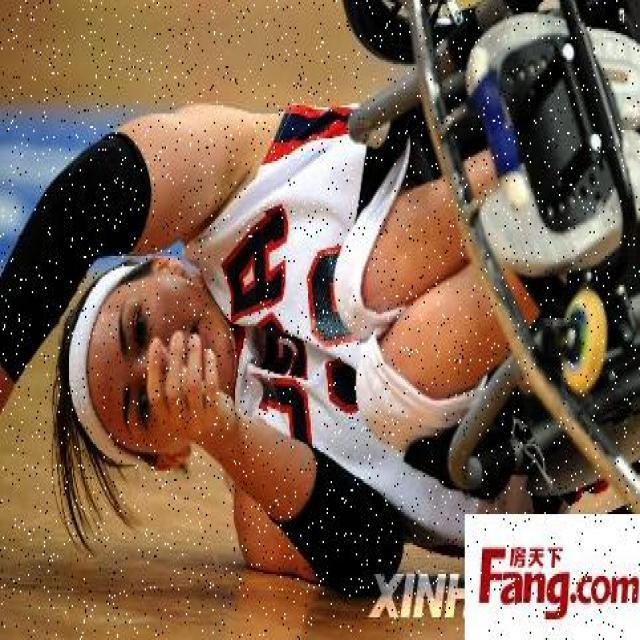fall: (24, 27, 580, 594)
